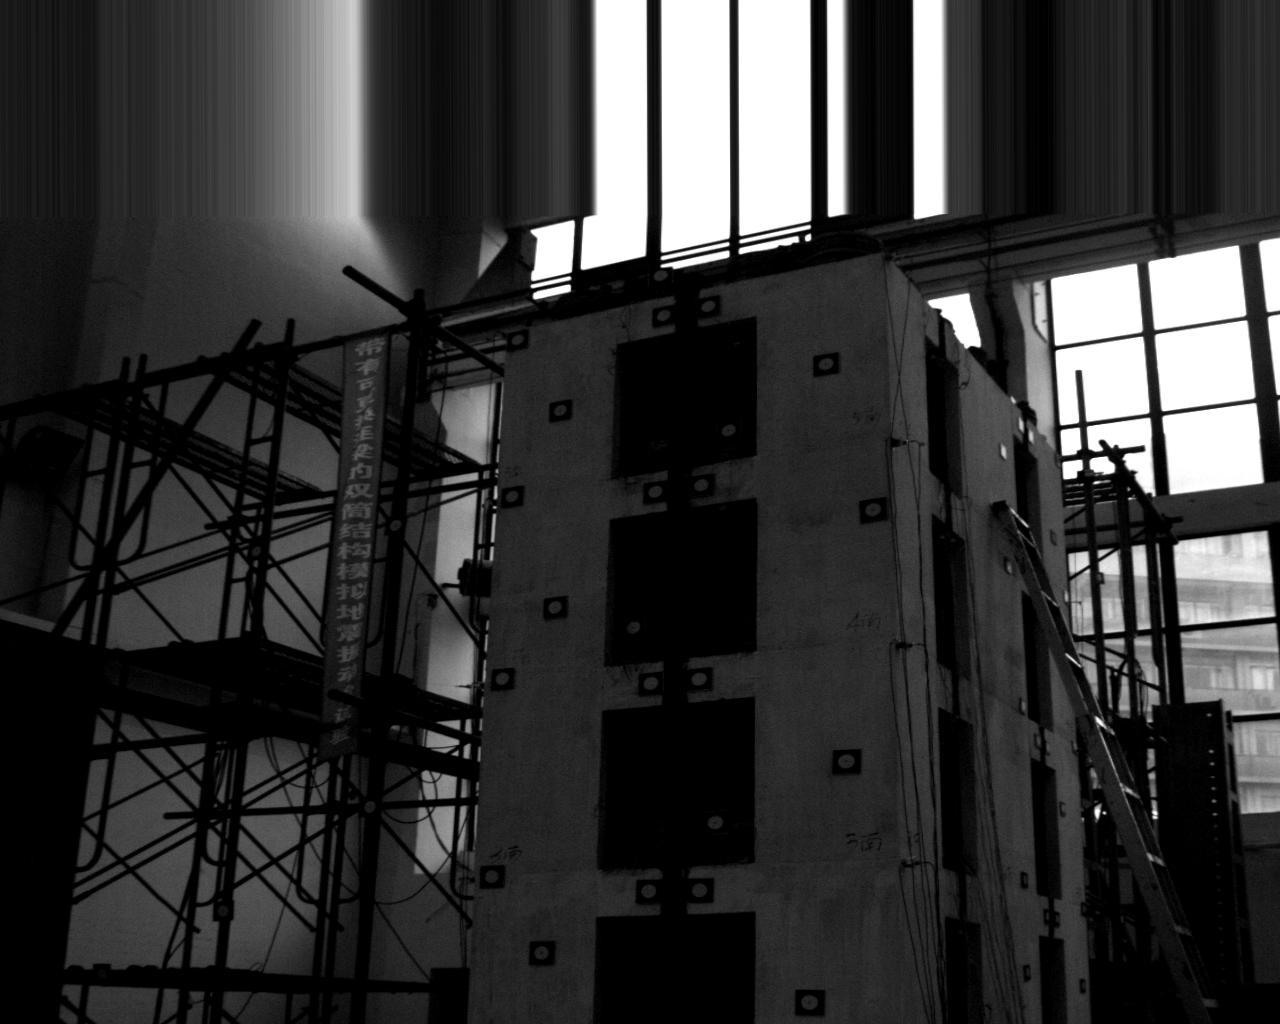target: (833, 749, 860, 773), (795, 990, 823, 1013), (860, 498, 886, 520), (651, 303, 674, 326), (543, 595, 566, 618), (686, 667, 711, 689), (528, 941, 552, 963), (812, 354, 839, 373), (696, 295, 719, 317), (688, 879, 712, 900), (638, 672, 660, 694), (637, 880, 659, 902), (717, 418, 740, 439), (703, 811, 726, 832), (689, 474, 713, 494), (480, 866, 504, 886), (623, 616, 644, 638), (643, 481, 666, 501), (360, 796, 381, 816), (386, 516, 406, 536), (501, 486, 522, 505), (213, 900, 233, 920), (492, 669, 513, 688), (506, 330, 528, 348), (549, 400, 571, 418), (248, 542, 266, 560)
